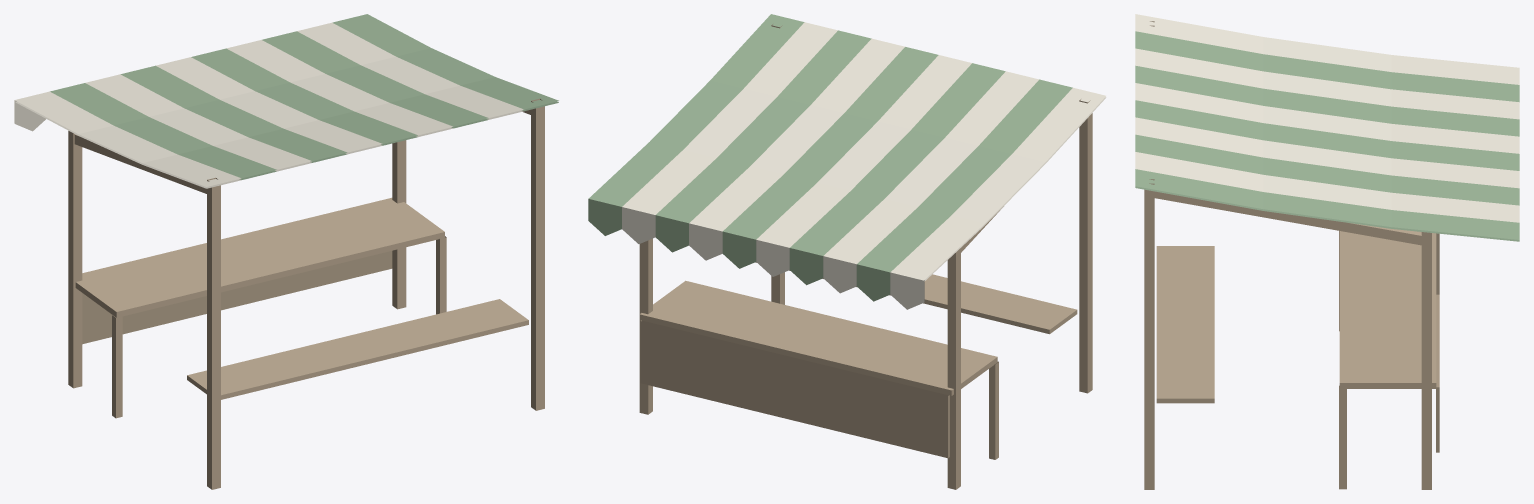
The model's file is SM_BM_BP_Stall_B.glb.
3 renders of one model, left to right at view 1: azimuth 30°, elevation 25°; view 2: azimuth 150°, elevation 25°; view 3: azimuth 270°, elevation 25°, orthographic. The views are drawn at different scales.
Visible parts, largest first — view 1: SM_BM_BP_Stall_B; view 2: SM_BM_BP_Stall_B; view 3: SM_BM_BP_Stall_B.
Boxes of the visible parts, x1,y1,x2,y2 form: SM_BM_BP_Stall_B: (14,14,558,489); SM_BM_BP_Stall_B: (588,14,1106,489); SM_BM_BP_Stall_B: (1135,14,1519,489).
Size of the model in its own units: 3.16 by 2.64 by 2.98.
